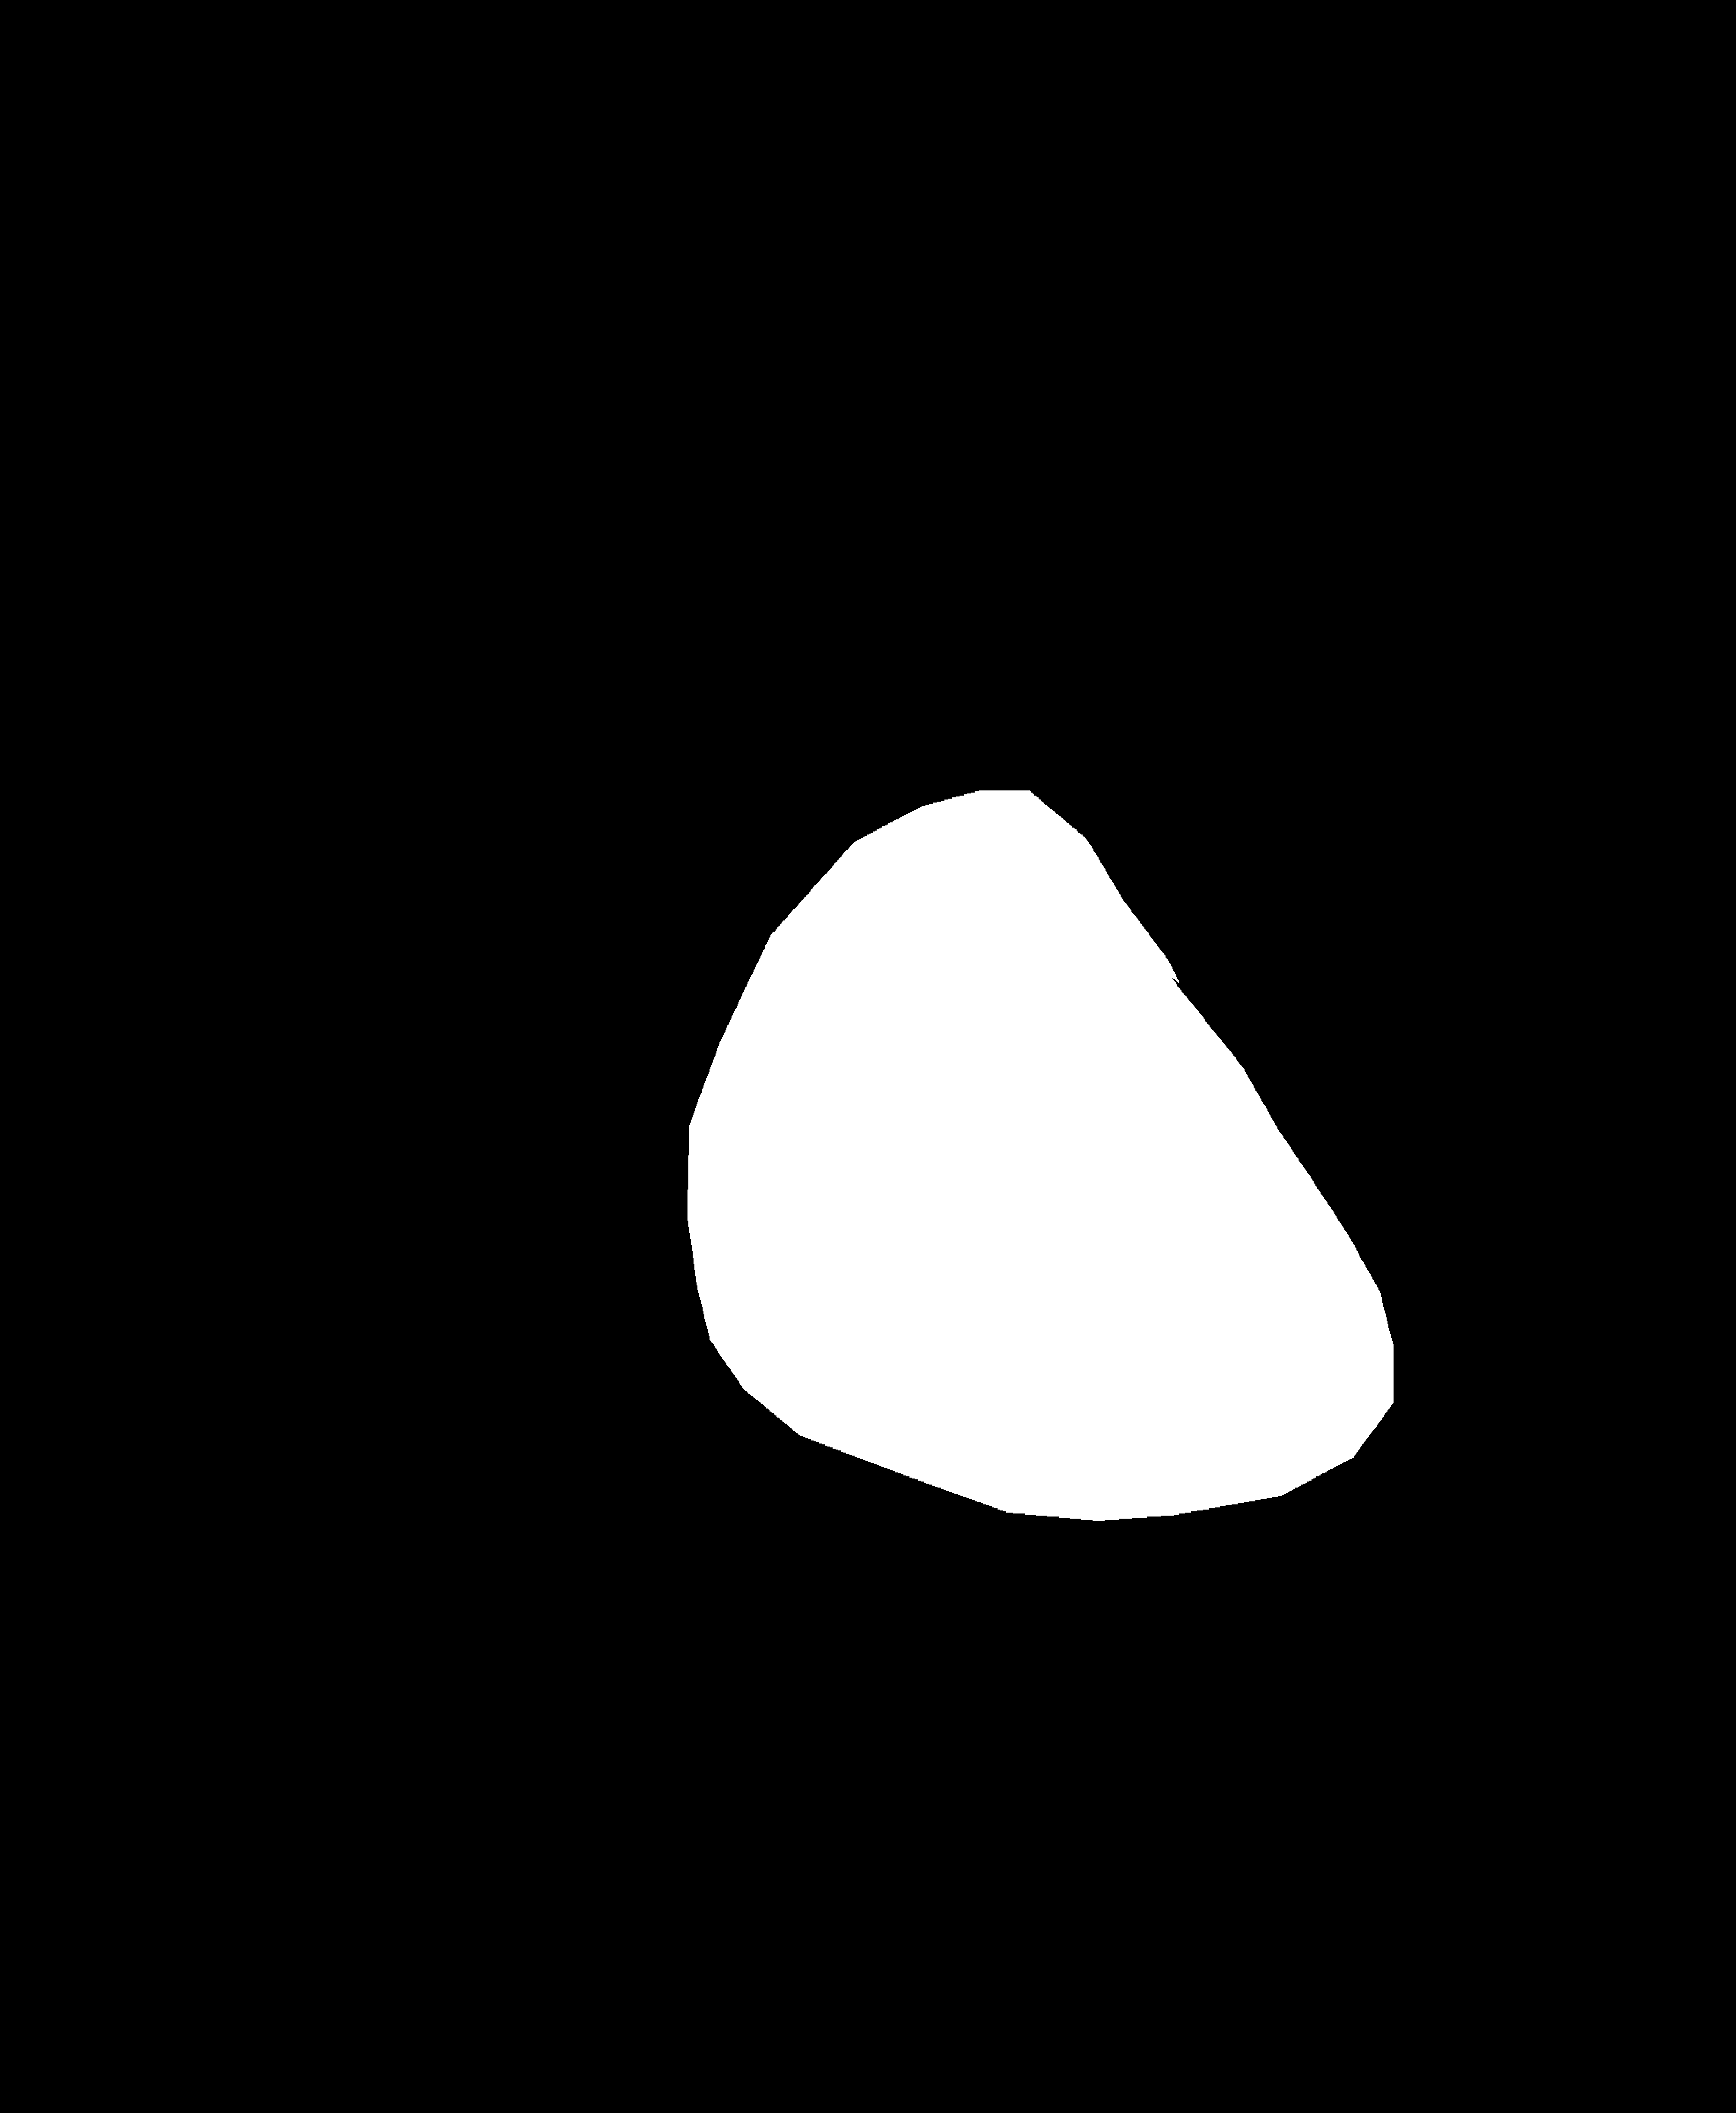heart: (678, 965, 1395, 1585)
left_lung: (70, 251, 857, 1664)
right_lung: (994, 237, 1734, 1548)
